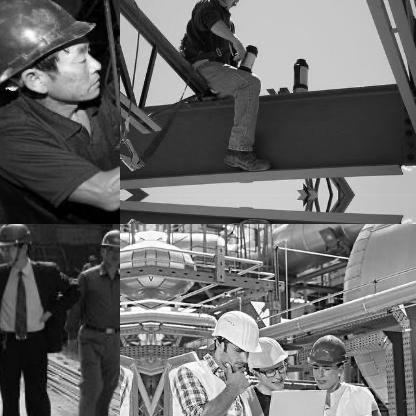Helmet: (0, 0, 107, 115), (206, 300, 258, 376), (298, 326, 354, 388), (239, 330, 293, 392), (0, 224, 32, 264), (97, 226, 119, 269), (207, 0, 245, 13)
